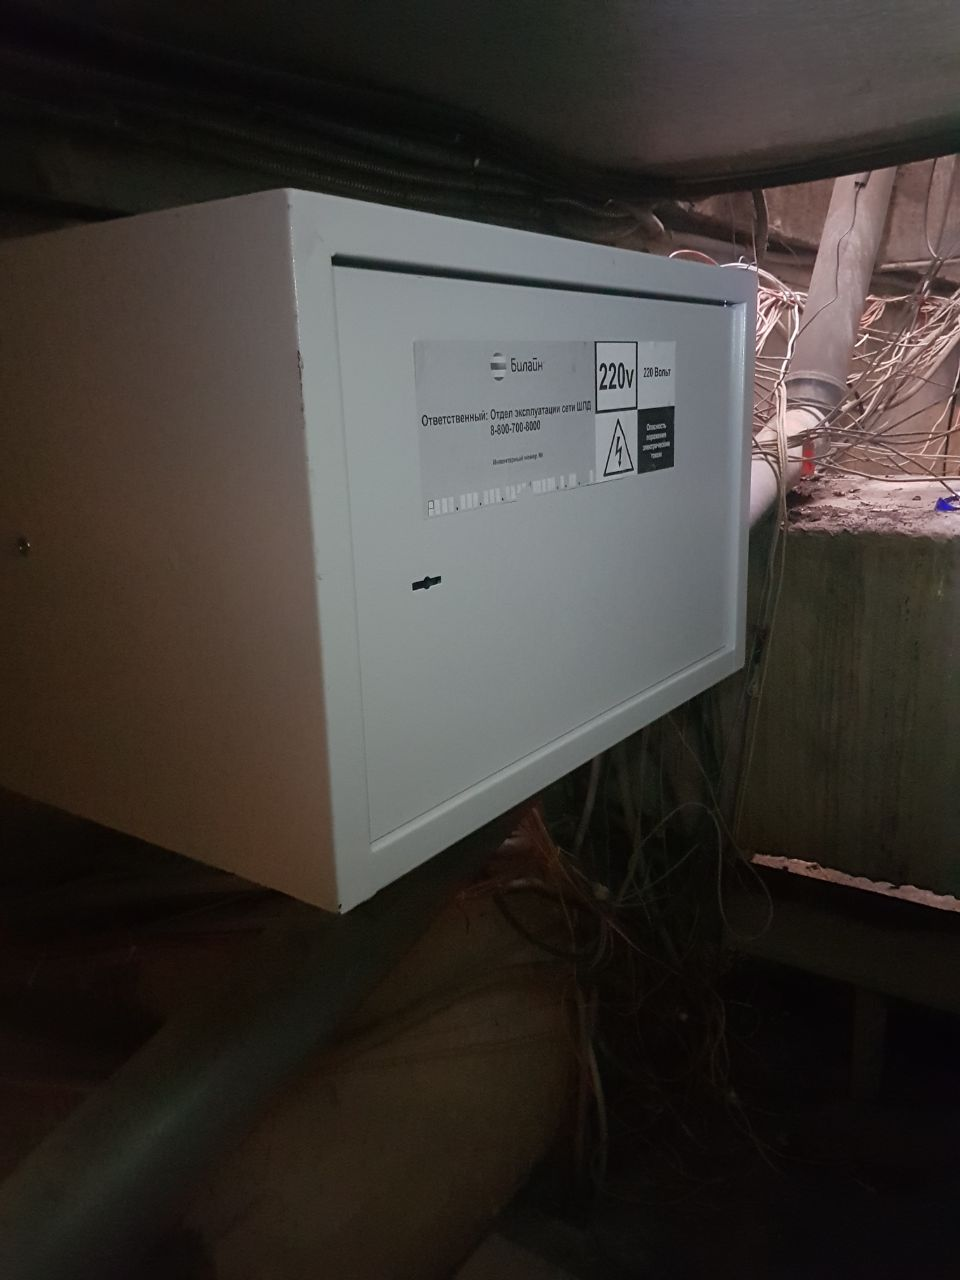shta-7m: (8, 184, 761, 920)
